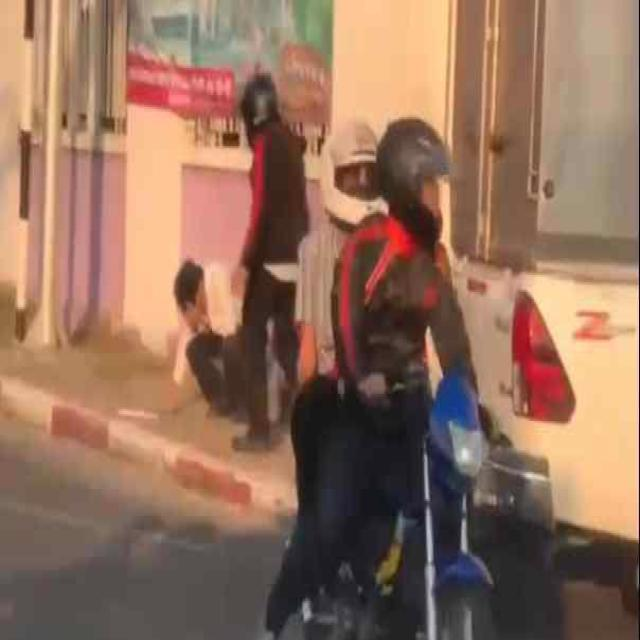helmet: (380, 108, 458, 259), (318, 113, 387, 232), (170, 248, 221, 338), (234, 70, 289, 146)
